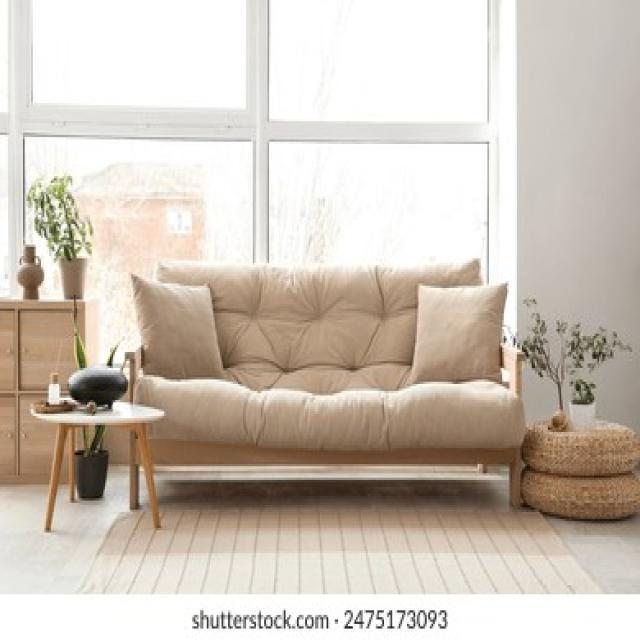sofa: (124, 254, 526, 507)
